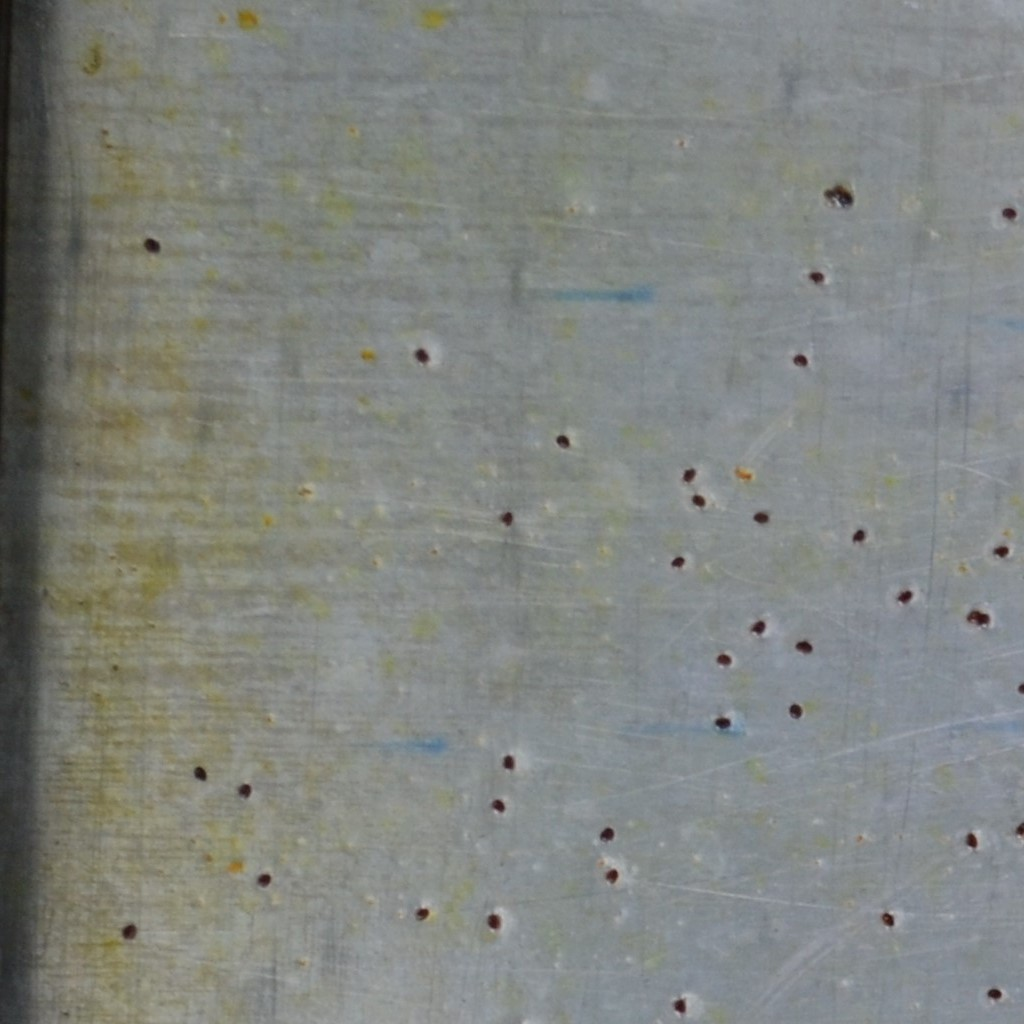varroa: (119, 918, 140, 944), (485, 910, 501, 935), (192, 761, 208, 786), (412, 346, 433, 365), (894, 587, 914, 606), (713, 650, 734, 668), (235, 781, 253, 802), (255, 869, 272, 891), (142, 235, 161, 254), (794, 637, 813, 656), (997, 205, 1020, 220), (787, 701, 804, 721), (497, 508, 514, 528), (489, 796, 506, 816), (603, 866, 619, 887), (964, 828, 979, 850), (879, 909, 897, 927), (749, 619, 767, 637), (681, 466, 699, 484), (713, 714, 732, 731), (414, 904, 431, 923), (751, 509, 771, 525), (499, 754, 515, 774), (807, 267, 825, 284), (993, 543, 1011, 560), (986, 984, 1005, 1000), (791, 352, 810, 368), (554, 431, 570, 450), (669, 554, 686, 571), (598, 826, 615, 843), (851, 527, 866, 546), (672, 997, 687, 1016), (691, 493, 706, 508), (1014, 820, 1023, 837), (1017, 680, 1023, 697)
